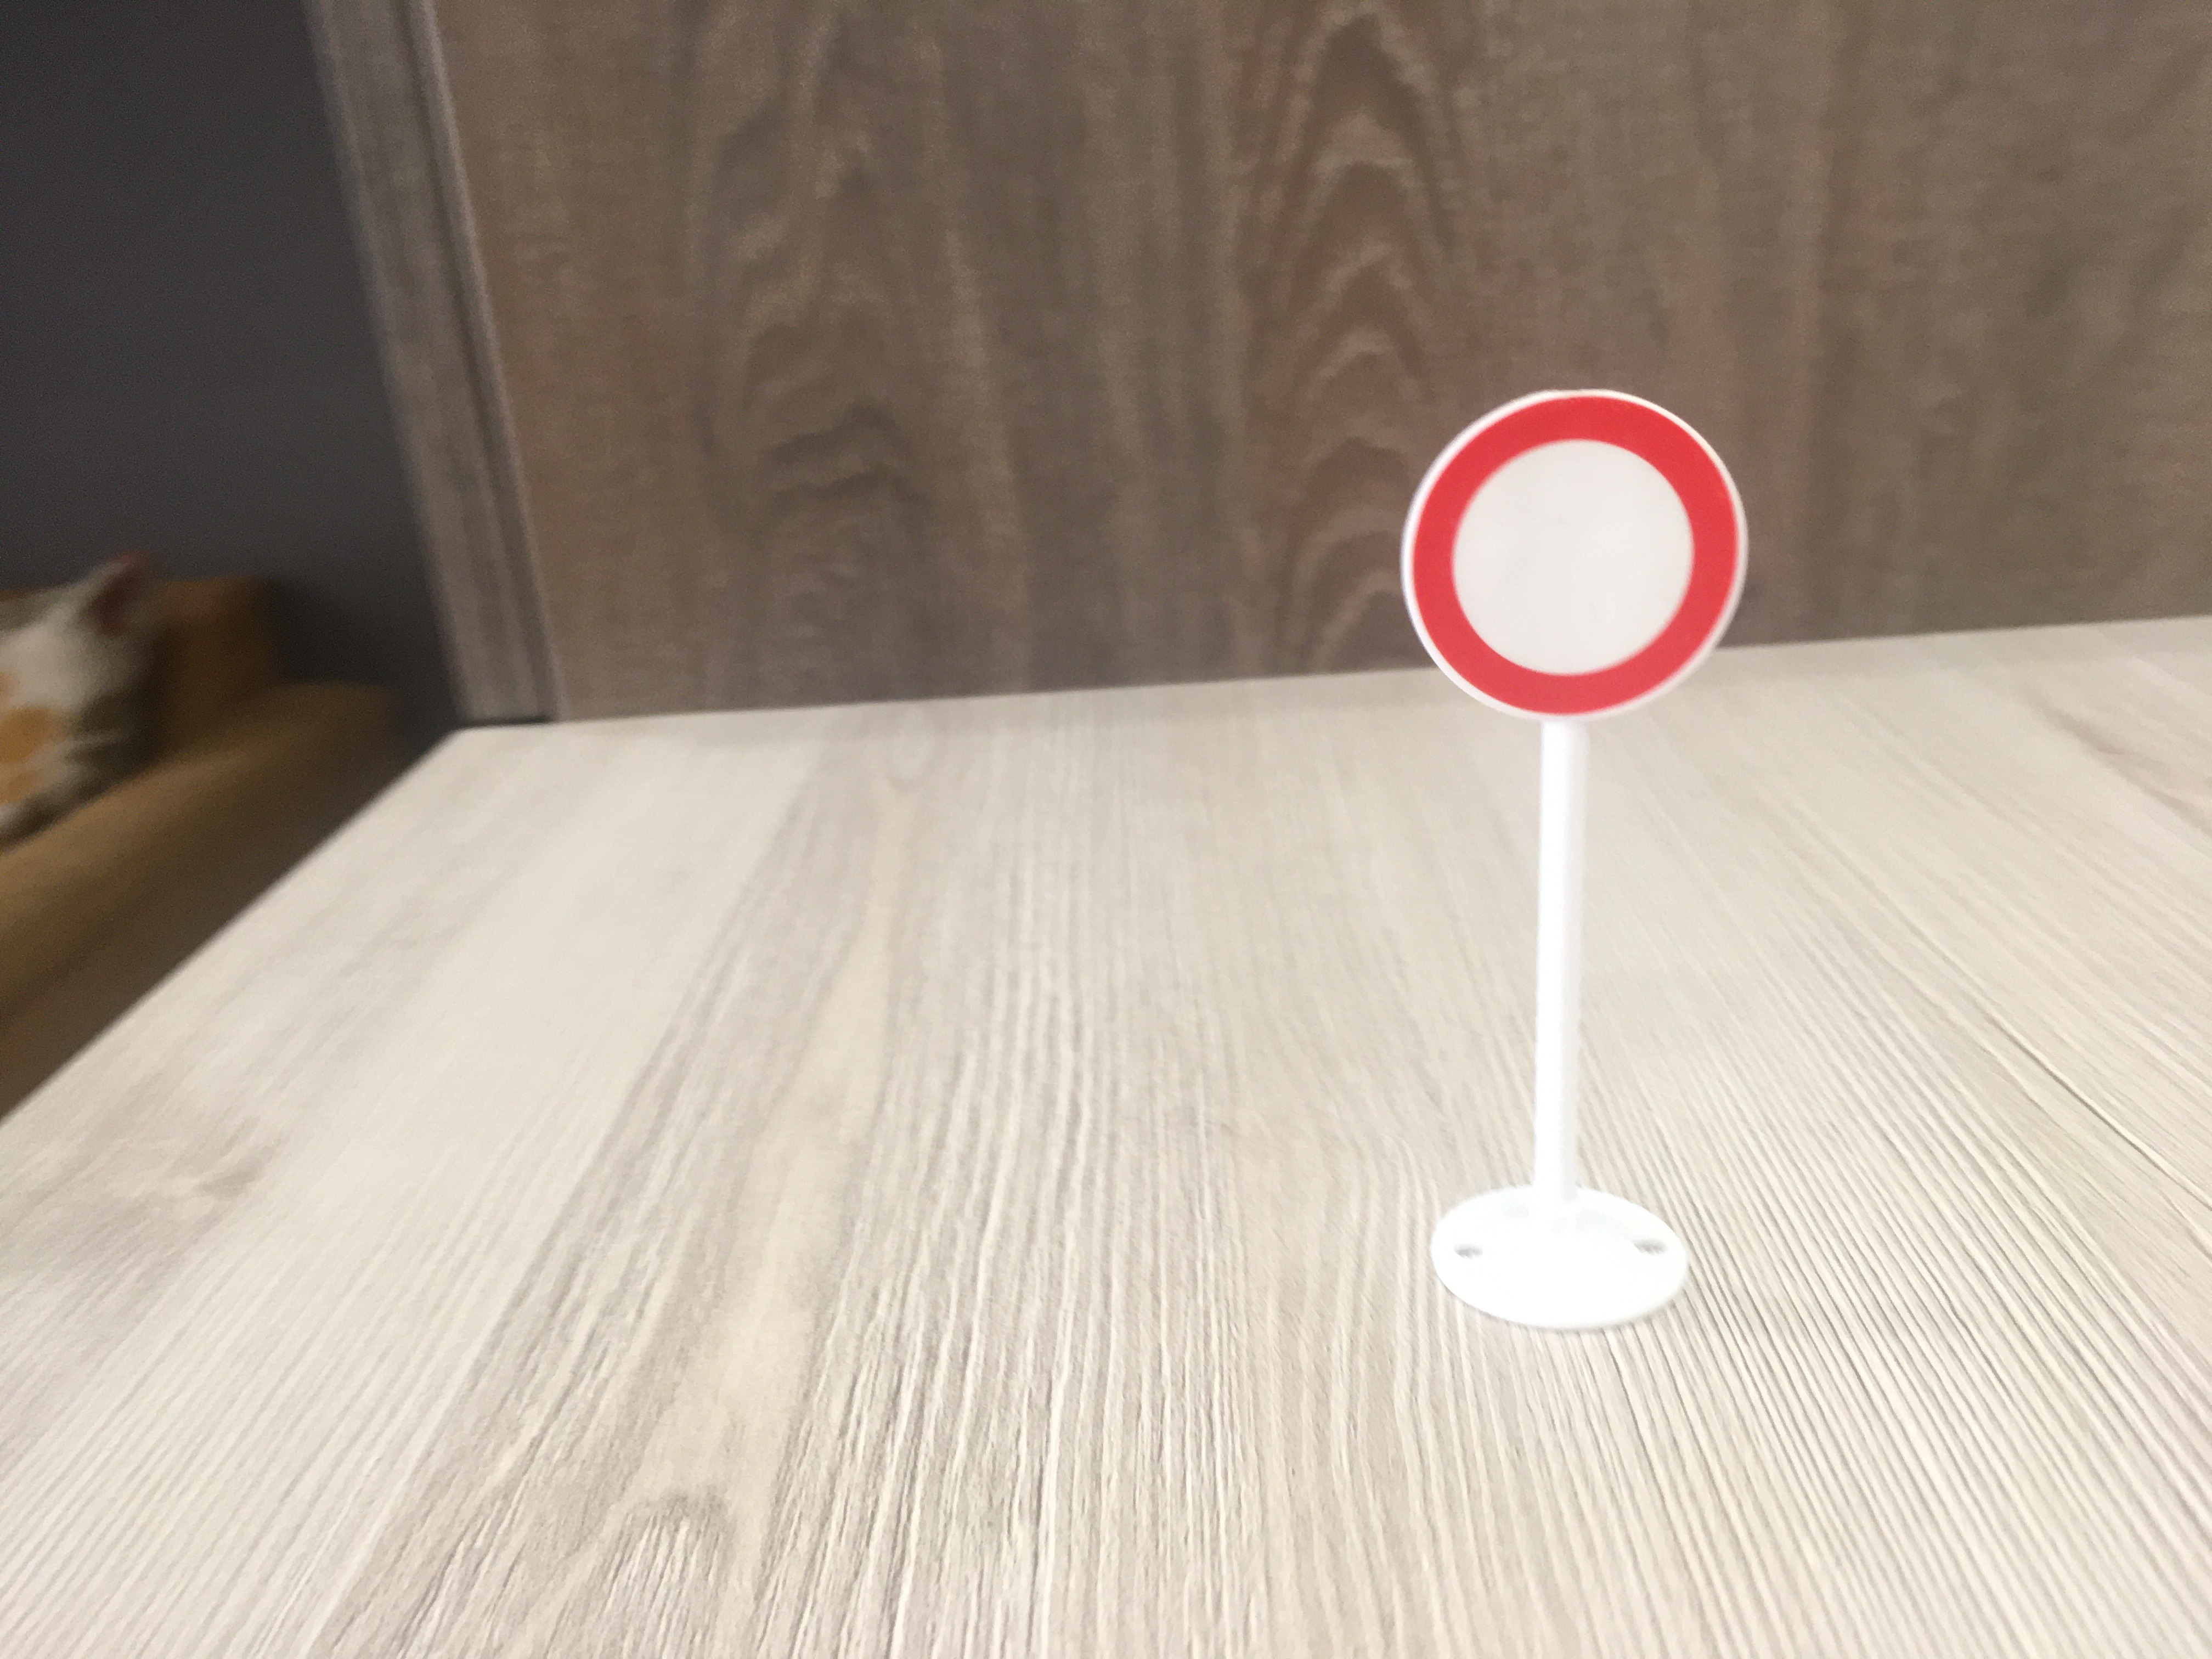noDrive: (1400, 389, 1759, 728)
